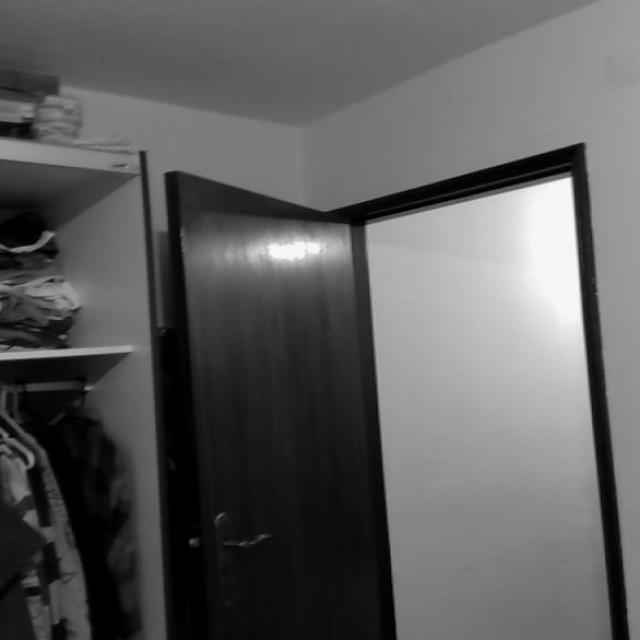door: (156, 141, 384, 636)
